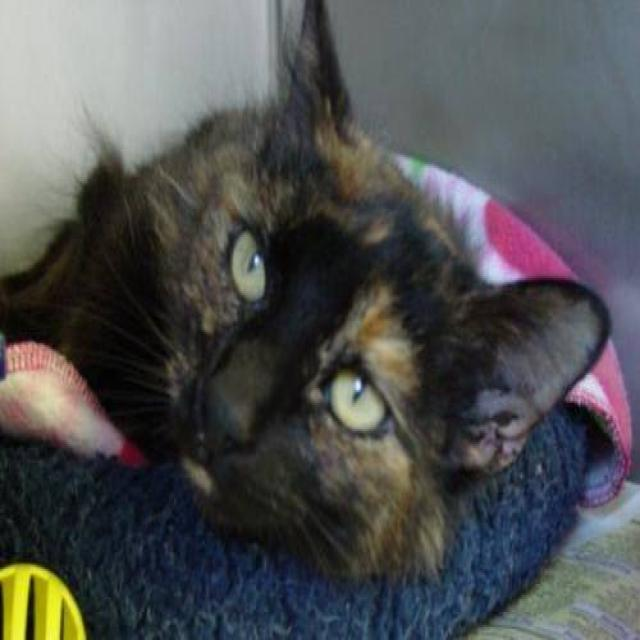cat: (0, 0, 612, 586)
